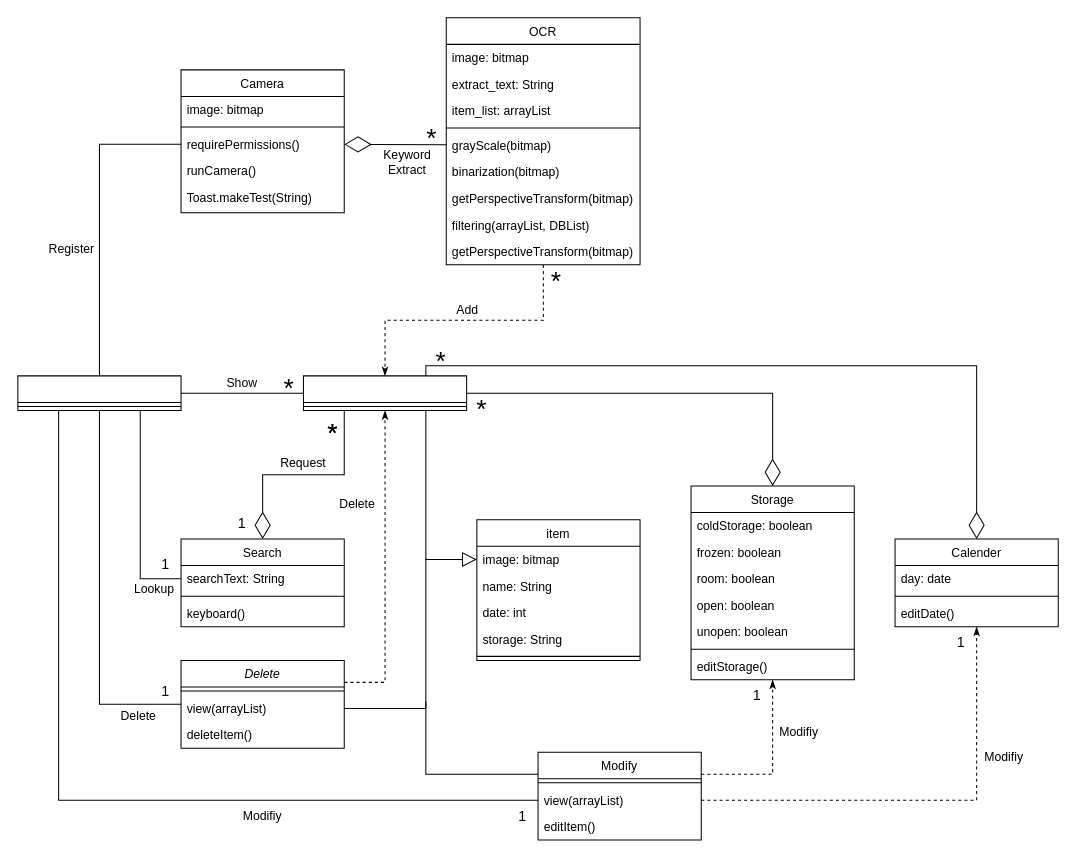
The diagram is 1076 pixels wide and 861 high, and some of its shapes have lost their labels. The shapes that lost their labels are listed below. From the top down, each one's centre as x and y in pixels, then its label:
At [99,393]: "User".
At [384,393]: "List Information".
